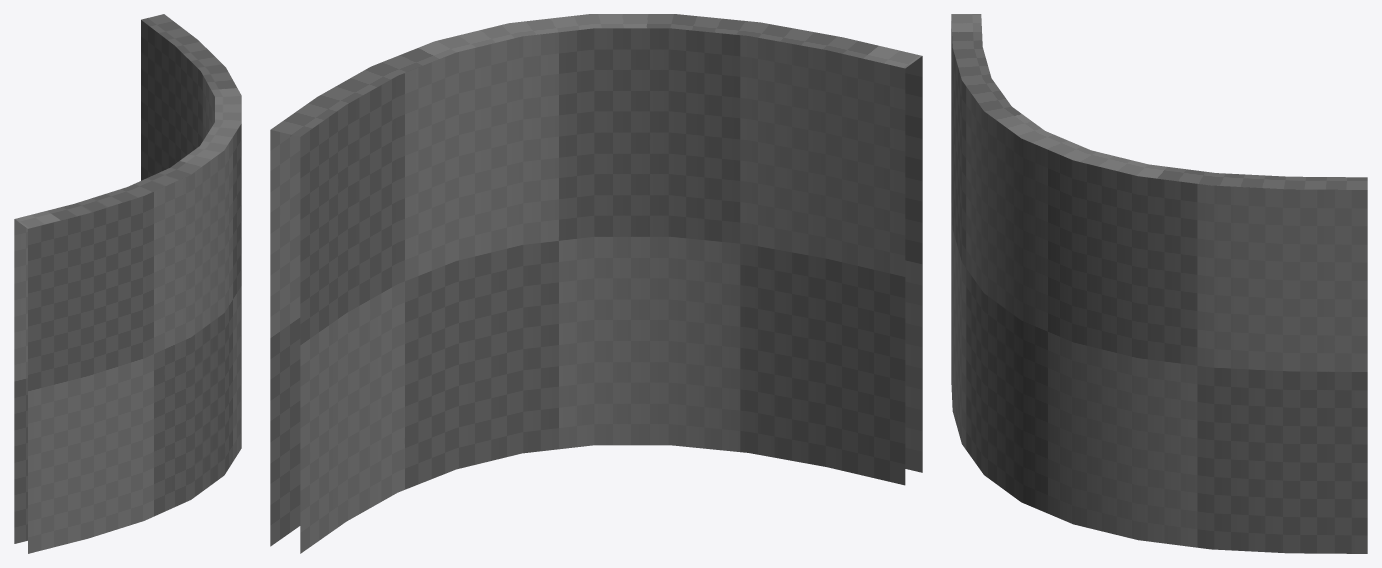
The model's file is WallConer_X4_Y4_Z4.fbx.
3 renders of one model, left to right at view 1: azimuth 30°, elevation 25°; view 2: azimuth 150°, elevation 25°; view 3: azimuth 270°, elevation 25°, orthographic. The views are drawn at different scales.
Visible parts, largest first — view 1: WallConer_X4_Y4_Z4_LOD_0; view 2: WallConer_X4_Y4_Z4_LOD_0; view 3: WallConer_X4_Y4_Z4_LOD_0.
Boxes of the visible parts, bbox=[...] form: WallConer_X4_Y4_Z4_LOD_0: bbox=[14, 14, 241, 553]; WallConer_X4_Y4_Z4_LOD_0: bbox=[270, 14, 922, 553]; WallConer_X4_Y4_Z4_LOD_0: bbox=[951, 14, 1367, 553].
Size of the model in its own units: 415 by 400 by 415.
